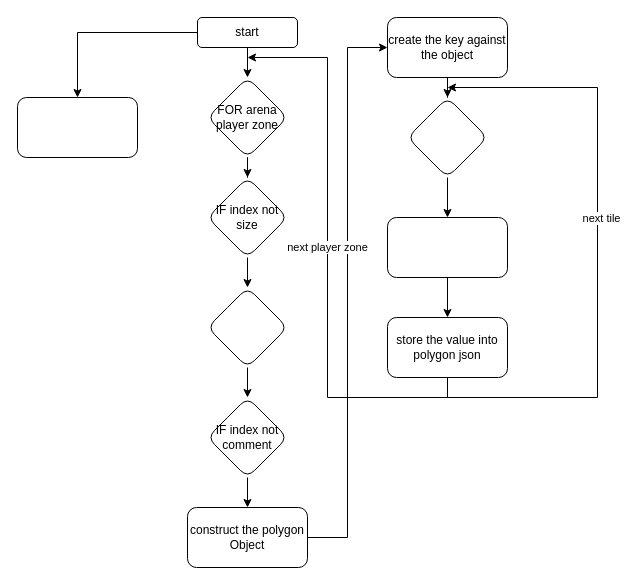
Image size: 637x585. Some labels were removed from this diagram. The centre of each missing label's shape, as x and y in pixels:
"construct the zone polygon" goes at (77,127).
"FOR each zone tile id" goes at (447,137).
"FOR player each zone" goes at (247,327).
"get the coordinate of the tile" goes at (447,247).
